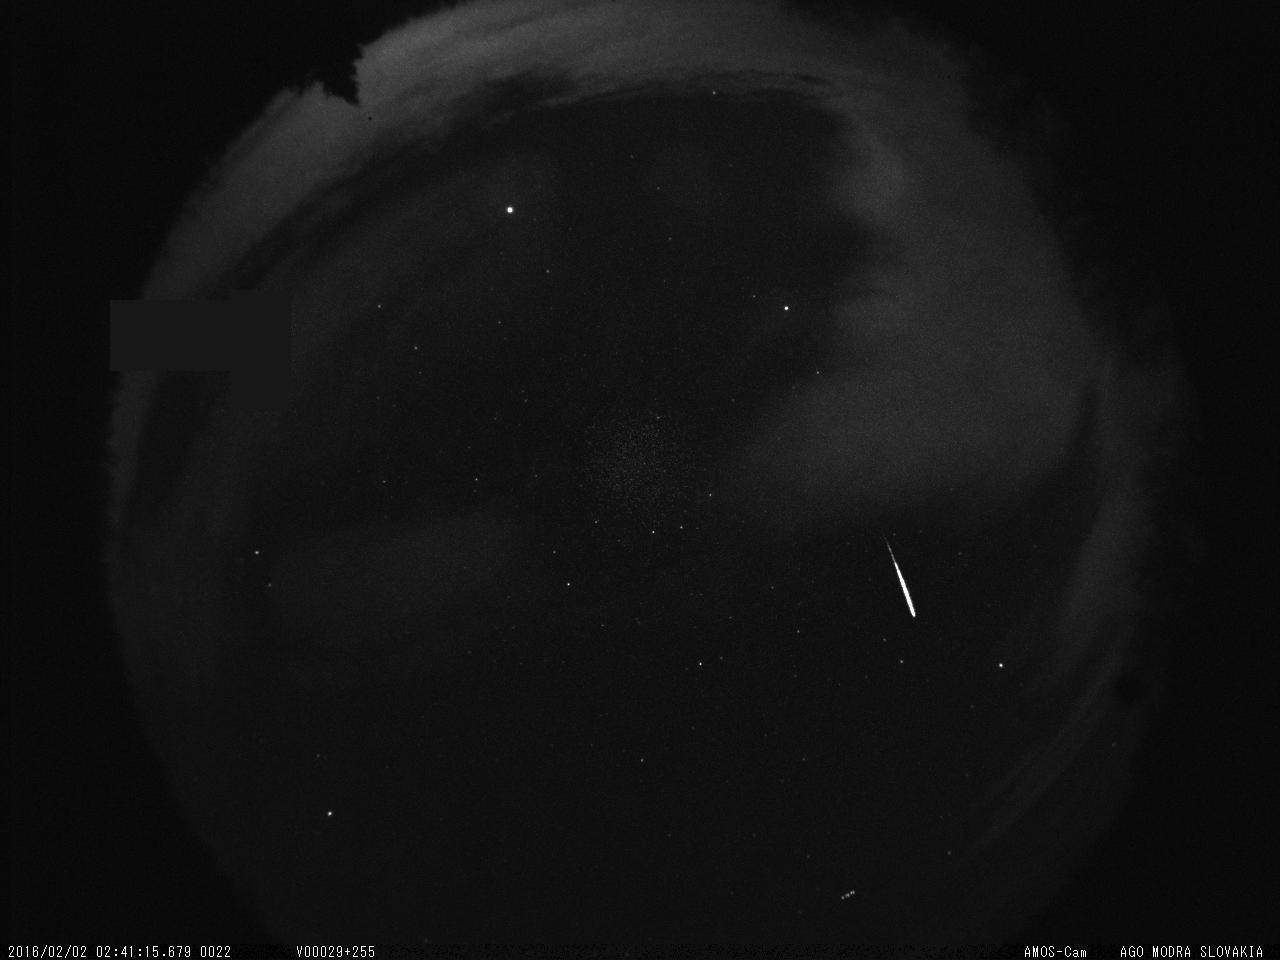meteor: (876, 529, 926, 618)
